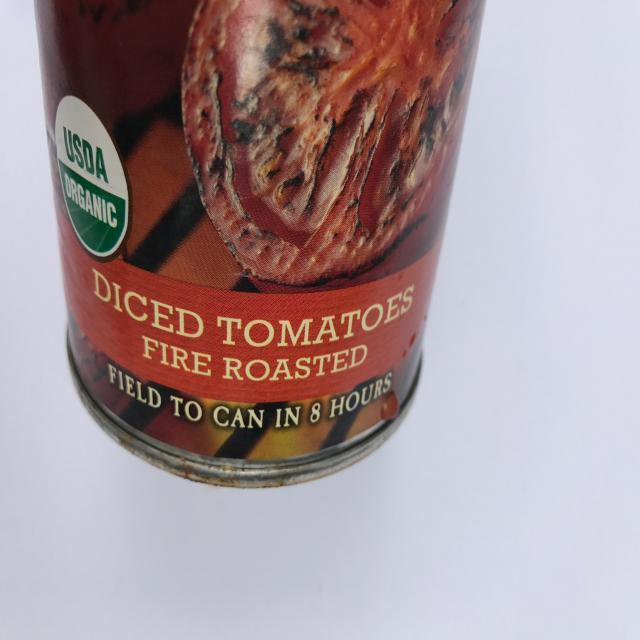metal: (32, 2, 486, 498)
